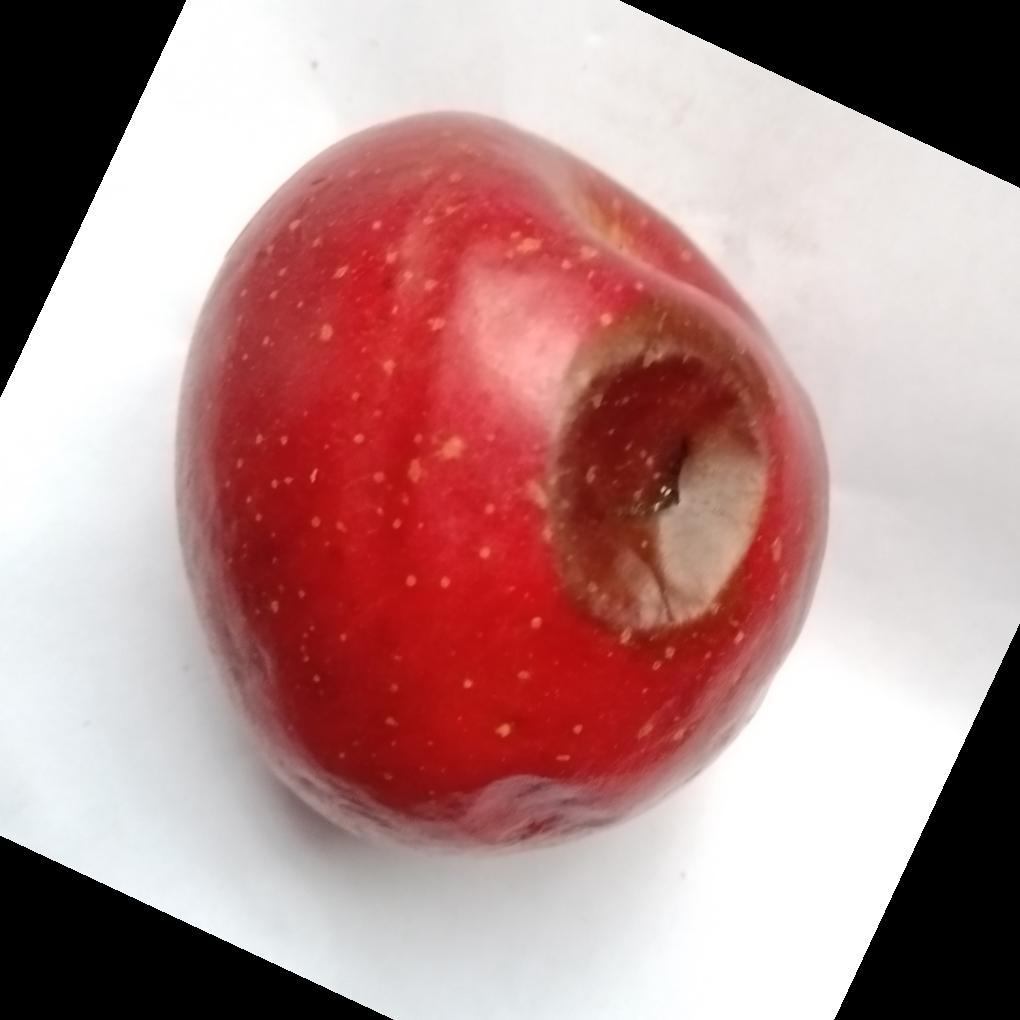FreshOrange: (171, 111, 832, 860)
